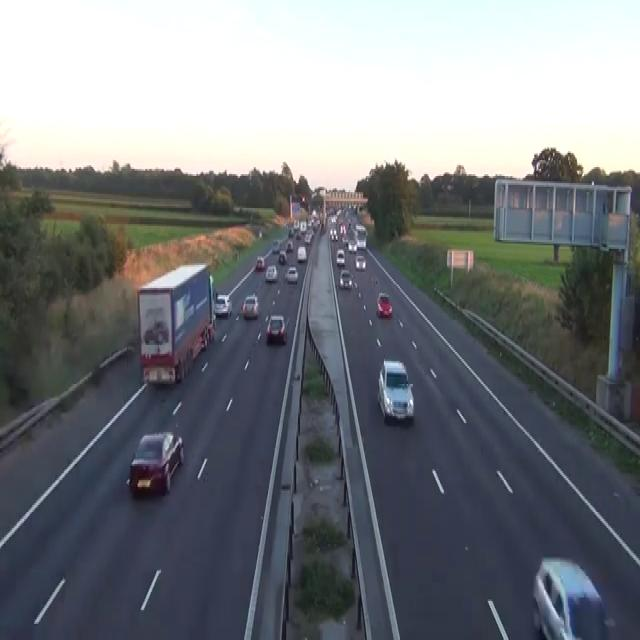Car: (531, 555, 610, 638), (126, 430, 184, 496), (377, 359, 414, 421), (143, 318, 168, 343), (266, 315, 286, 343), (241, 294, 259, 318), (213, 294, 232, 316), (376, 292, 392, 316), (339, 268, 352, 290), (284, 265, 298, 283), (265, 263, 277, 281), (336, 249, 345, 267), (255, 254, 265, 270), (355, 254, 366, 268), (297, 246, 306, 262), (271, 238, 280, 252), (348, 238, 357, 252), (355, 222, 366, 233), (356, 235, 366, 247), (209, 272, 214, 295), (278, 249, 286, 263), (304, 231, 312, 244), (212, 309, 216, 331), (286, 240, 293, 252), (331, 229, 338, 240), (341, 233, 348, 243), (446, 183, 454, 190), (288, 226, 293, 236), (258, 228, 262, 238), (295, 230, 300, 238)
Truck: (137, 261, 216, 386)
